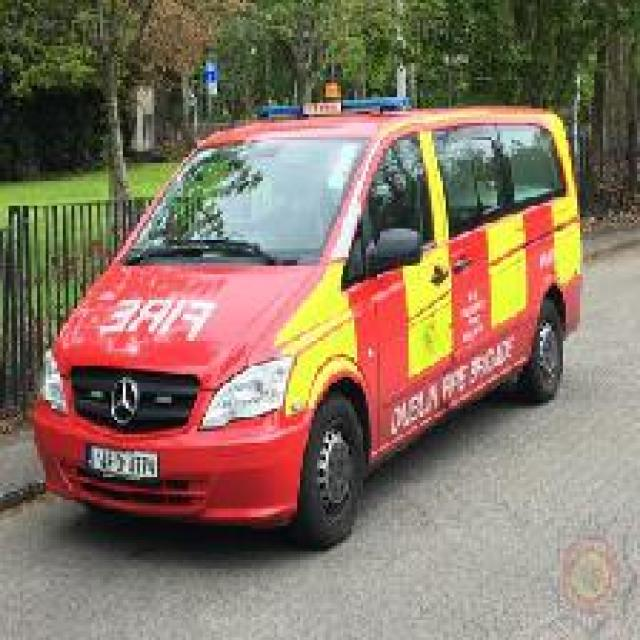Fire-truck: (28, 83, 583, 548)
